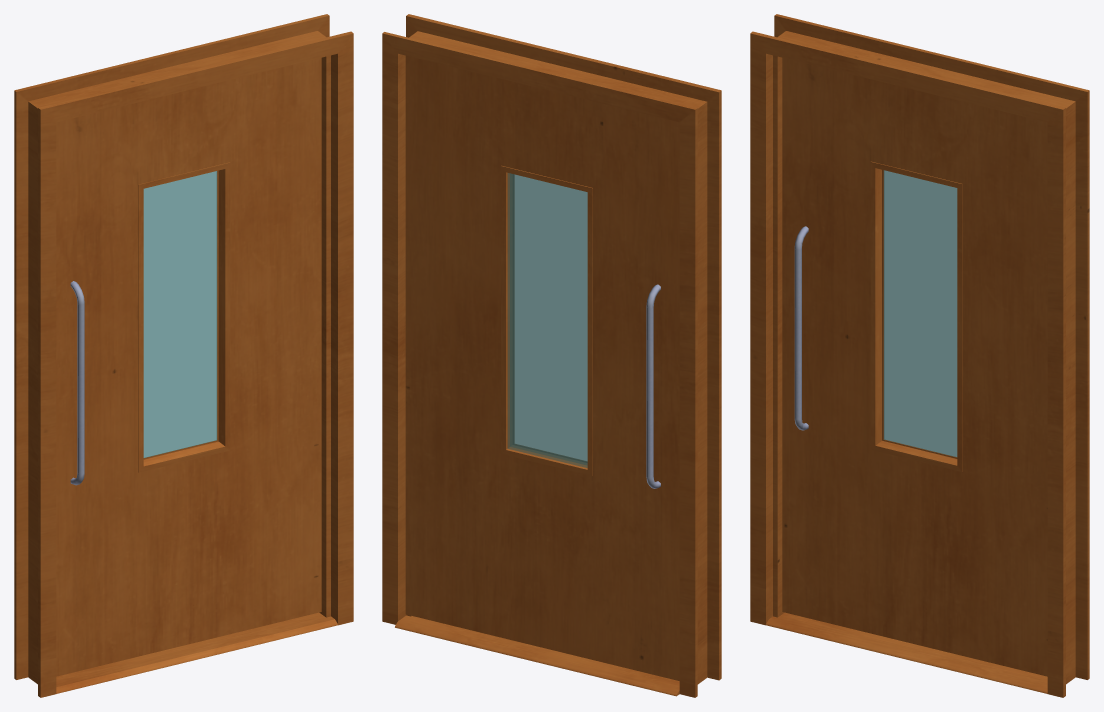
File: SingleDoor.fbx
3 views of the same model, side by side, from view 1: azimuth 30°, elevation 25°; view 2: azimuth 150°, elevation 25°; view 3: azimuth 330°, elevation 25° (orthographic).
Parts seen in each view (by area): view 1: SingleDoor; view 2: SingleDoor; view 3: SingleDoor.
Part boxes in pixels (bbox=[...]): SingleDoor: bbox=[14, 14, 353, 697]; SingleDoor: bbox=[382, 14, 721, 697]; SingleDoor: bbox=[750, 14, 1089, 697].
Size of the model in its own units: 141 by 252 by 23.03.
